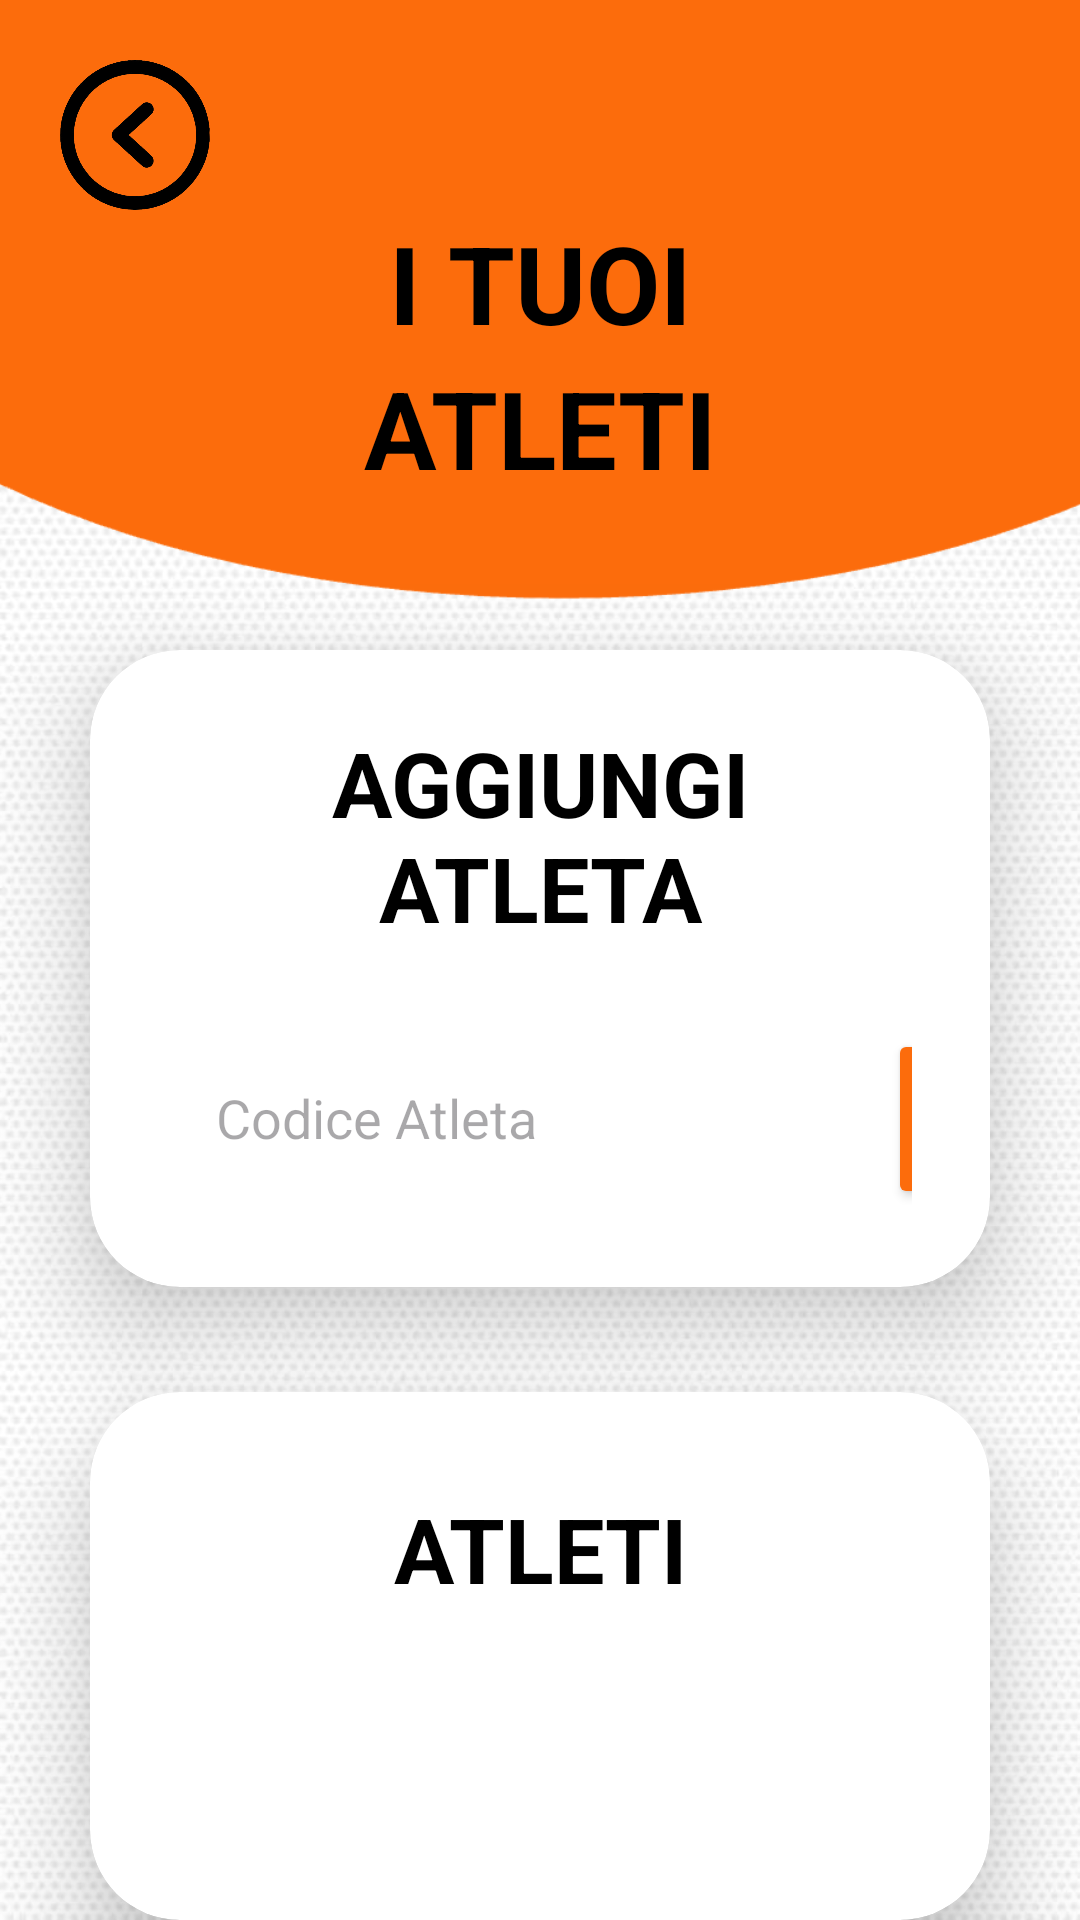

Icons on this 1080px x 1920px Android screen, each with the point to tap as (x=x, y=y):
freccia: (x=135, y=135)
